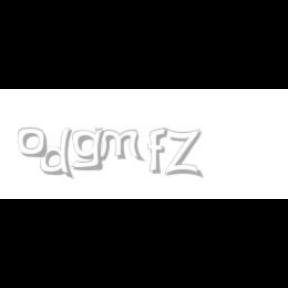Z: (164, 128, 201, 178)
d: (40, 128, 78, 180)
f: (148, 128, 172, 174)
g: (72, 128, 108, 171)
m: (94, 128, 146, 162)
o: (17, 128, 46, 158)
